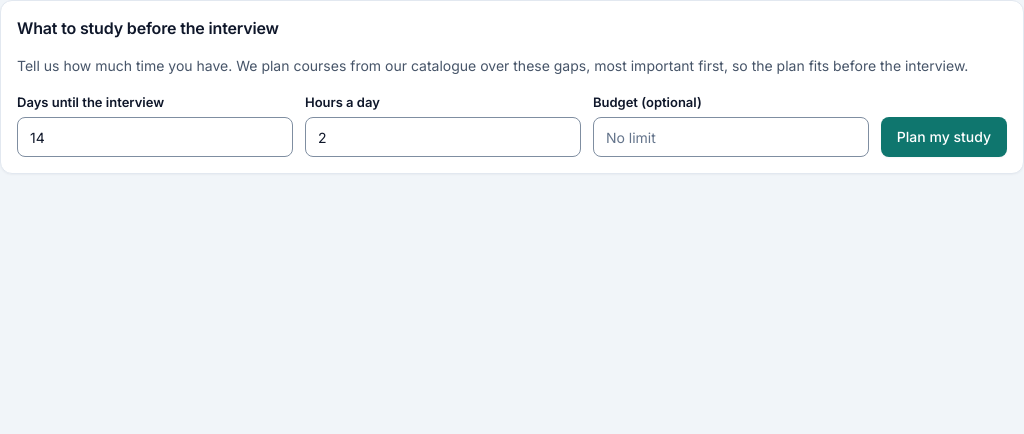
Test case: JobTargetRoadmapPanel › warns that nothing fits when every course is out of reach
Step 1. Click the button "Plan my study" → click(944, 137), box [881,117,1007,157]
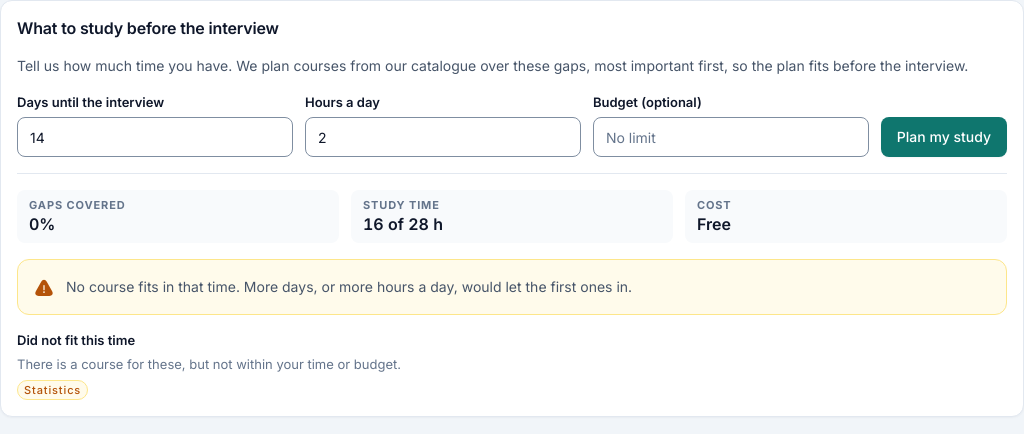
expect the text "No course fits in that time" is shown: met, box [66,278,632,295]
